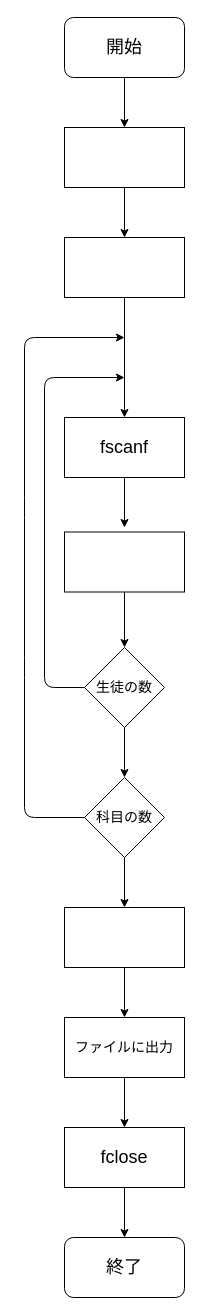
This 202x1315 diagram has some shape labels left out. Each missing label, with the box of its shape:
fopen: (64, 236, 184, 298)
初期化: (64, 126, 184, 188)
合計と 二乗の合計を求める: (64, 531, 184, 592)
平均と二乗平均 分散，標準偏差 を求める: (64, 906, 184, 968)
